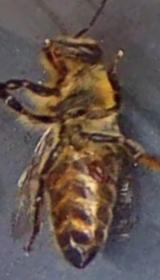varroa_mite: (78, 154, 114, 184)
